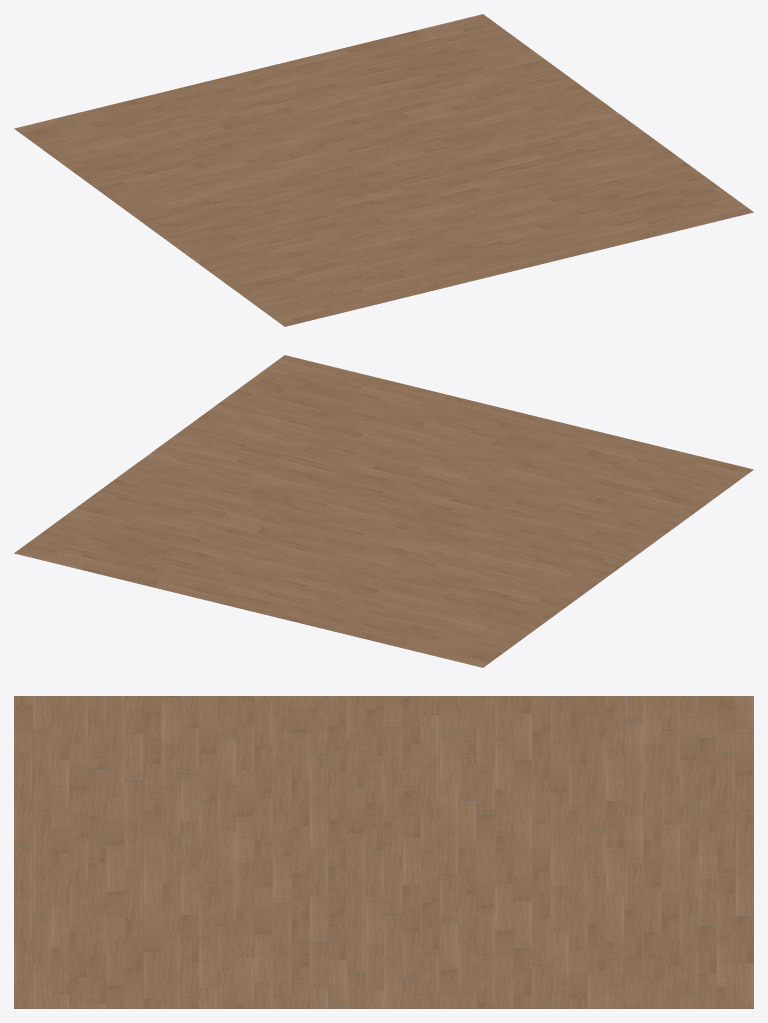
File: wood-chene-20x120.glb
The picture shows the model from 3 angles, top to bottom: view 1: azimuth 30°, elevation 25°; view 2: azimuth 150°, elevation 25°; view 3: azimuth 270°, elevation 25°; orthographic projection. The views are drawn at different scales.
Visible parts, largest first — view 1: Wood ChÃªne; view 2: Wood ChÃªne; view 3: Wood ChÃªne.
Part boxes in pixels (left/top/right/bottom): Wood ChÃªne: left=14, top=14, right=753, bottom=326; Wood ChÃªne: left=14, top=355, right=753, bottom=667; Wood ChÃªne: left=14, top=696, right=753, bottom=1008.
Bounding box in the file's own units: 8 × 0.003 × 8.
Materials: 2 (1 with a texture image).
